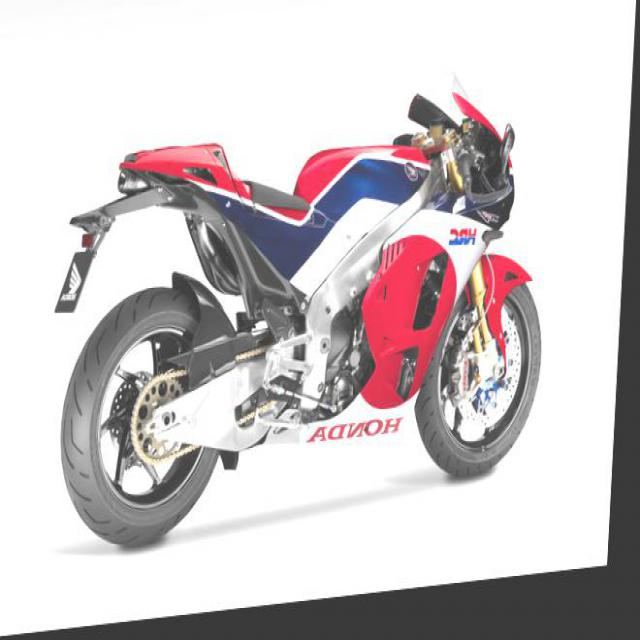HRC RCV 213: (48, 73, 558, 564)
